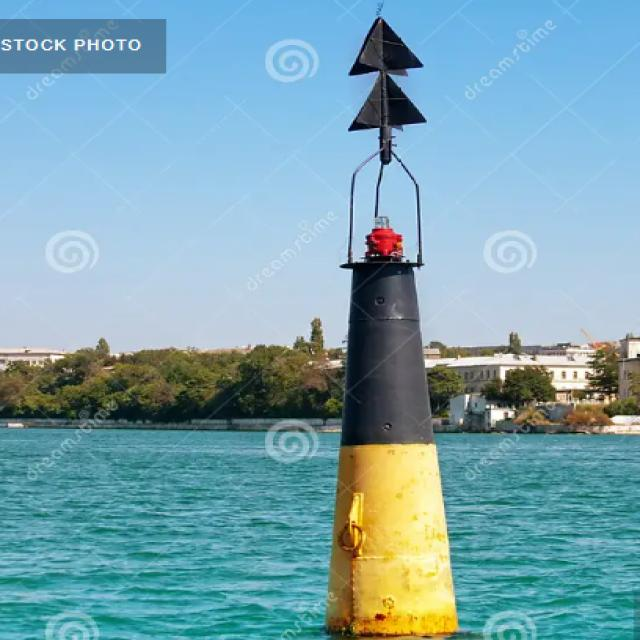marque: (264, 10, 501, 634)
